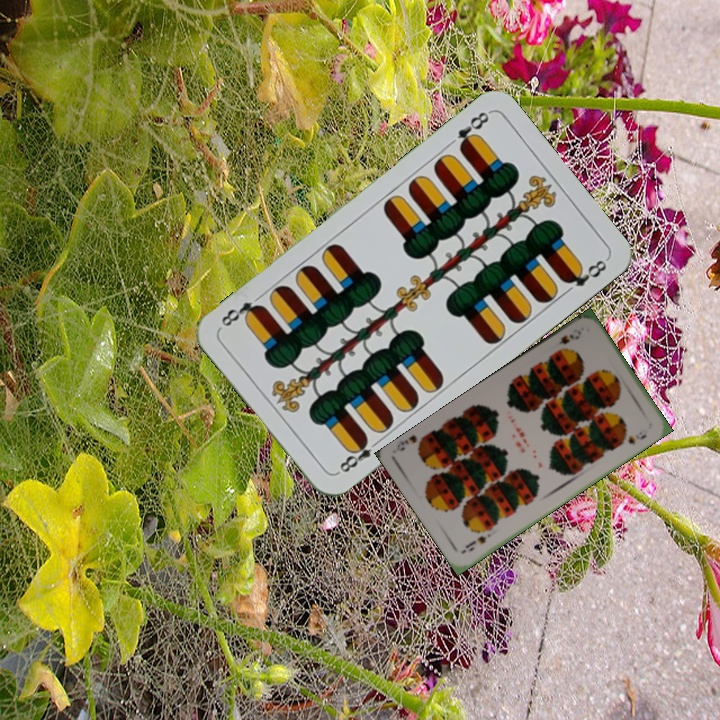E8: (332, 433, 383, 477), (453, 107, 492, 153)
S9: (461, 529, 496, 554), (554, 324, 584, 348)
